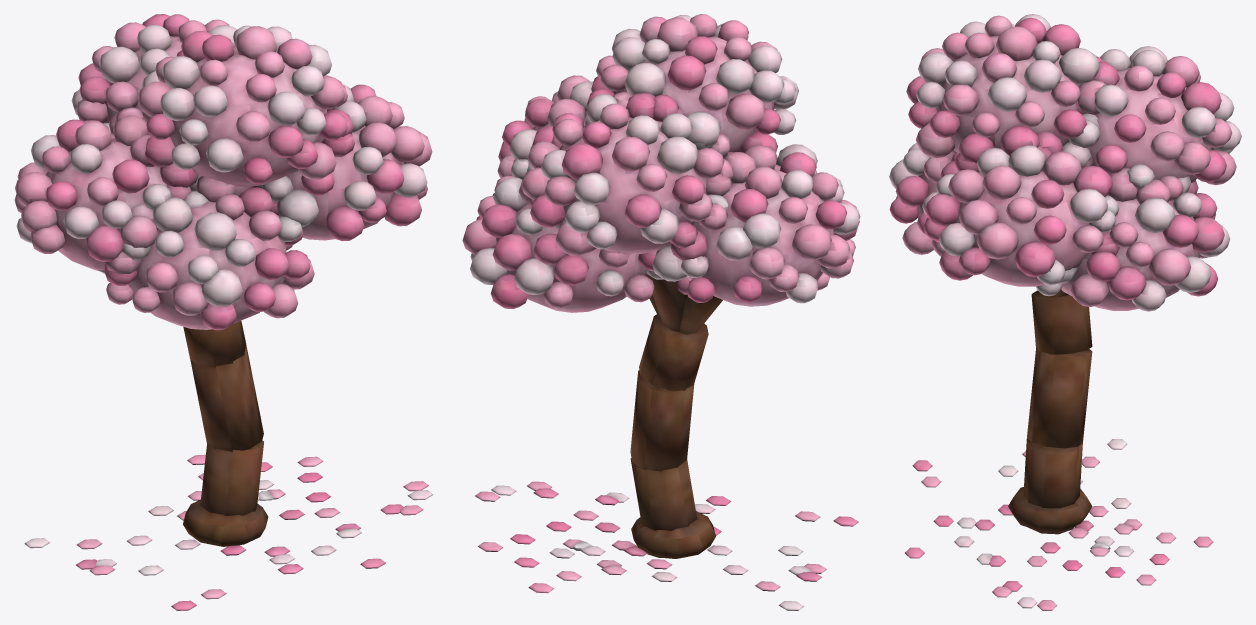
File: blossom_tree.glb
3 views of the same model, side by side, from view 1: azimuth 30°, elevation 25°; view 2: azimuth 150°, elevation 25°; view 3: azimuth 270°, elevation 25° (orthographic). The views are drawn at different scales.
Parts seen in each view (by area): view 1: blossom_tree; view 2: blossom_tree; view 3: blossom_tree.
Boxes of the visible parts, <box> form: blossom_tree: <box>14,14,433,610</box>; blossom_tree: <box>462,14,860,610</box>; blossom_tree: <box>889,14,1241,610</box>.
Bounding box in the file's own units: 0.9231 × 1.18 × 0.7517.
Materials: 1 (1 with a texture image).
